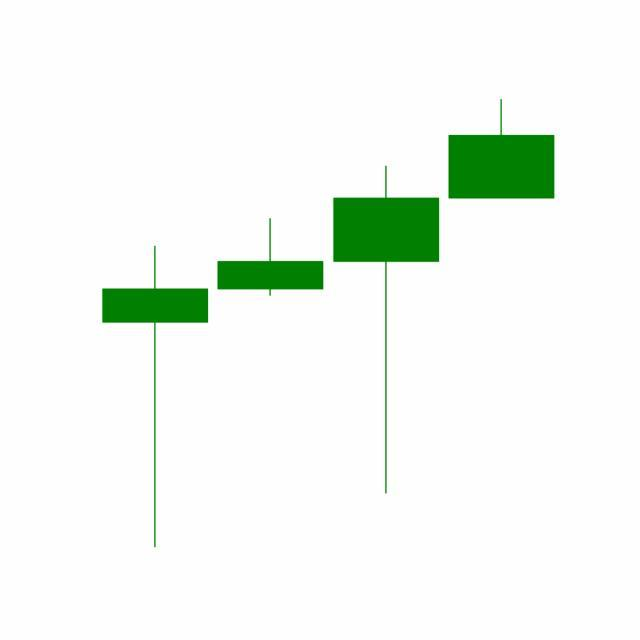Hanging Man: (329, 163, 445, 498)
